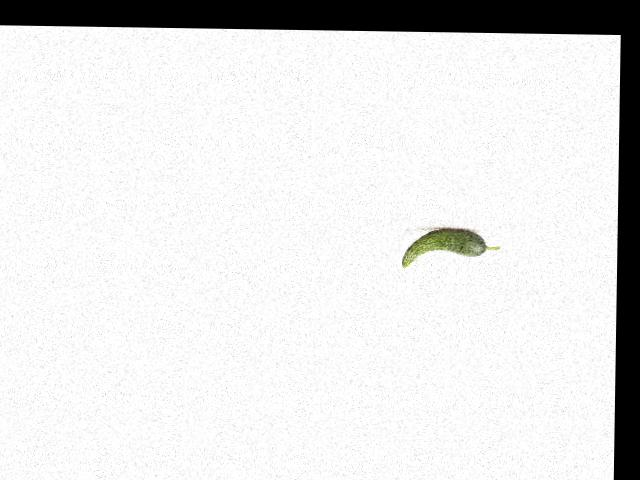cucumber: (402, 228, 500, 268)
